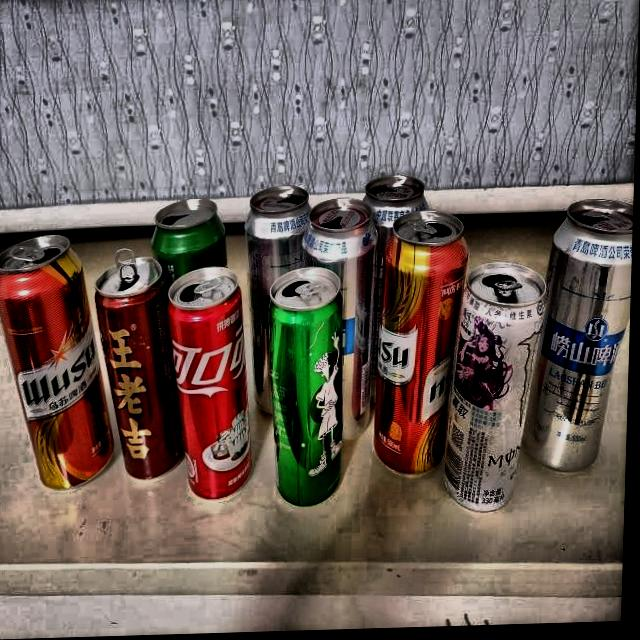can: (0, 220, 123, 496), (440, 248, 551, 533), (522, 199, 635, 473), (164, 257, 269, 513), (90, 241, 197, 490), (377, 213, 471, 481), (265, 265, 360, 516), (297, 196, 392, 443), (241, 181, 322, 425), (149, 180, 242, 288), (363, 171, 438, 225)
